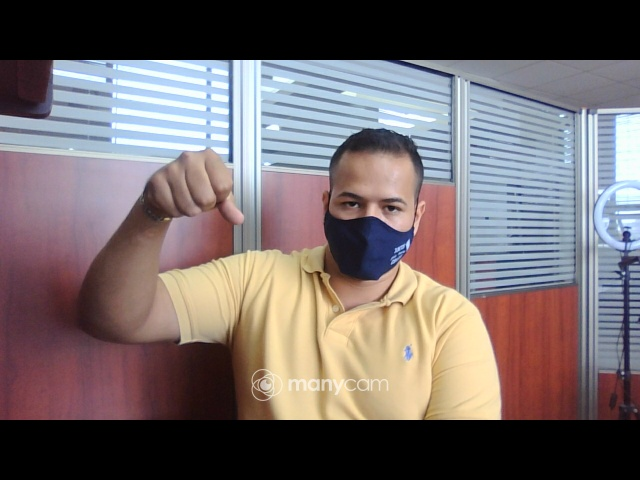Yes: (127, 142, 248, 239)
